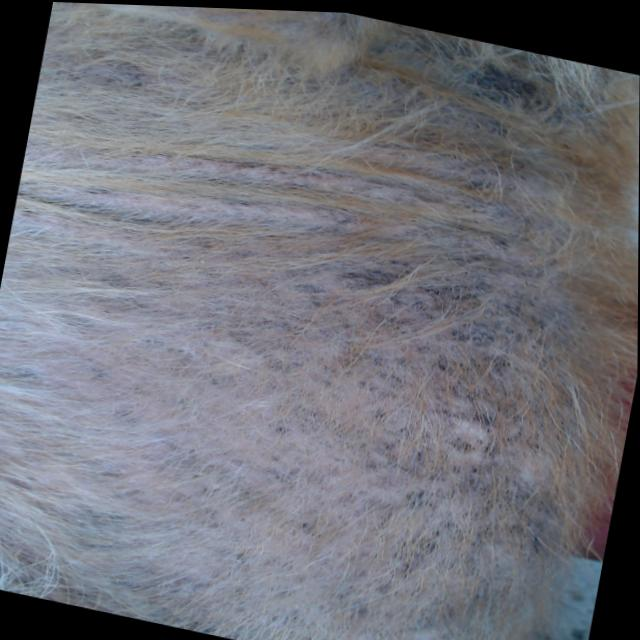demodicosis: (281, 251, 624, 538)
